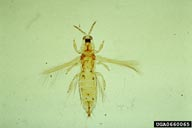Thrips: (49, 19, 144, 116)
